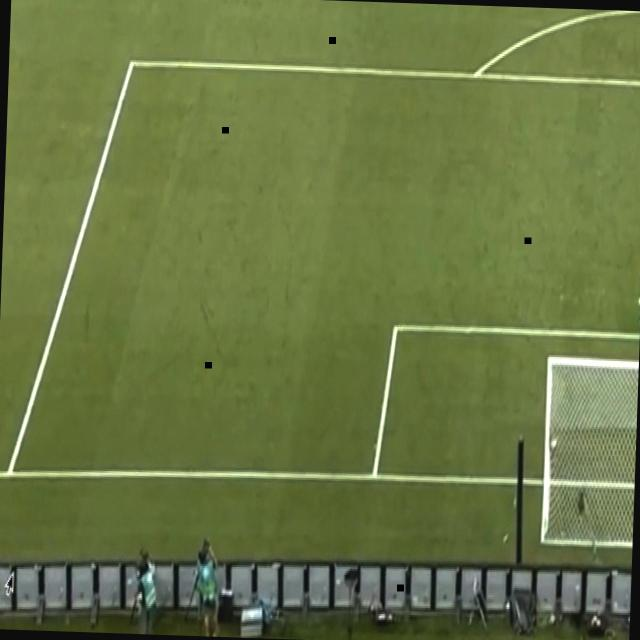player-white: (634, 256, 640, 348)
